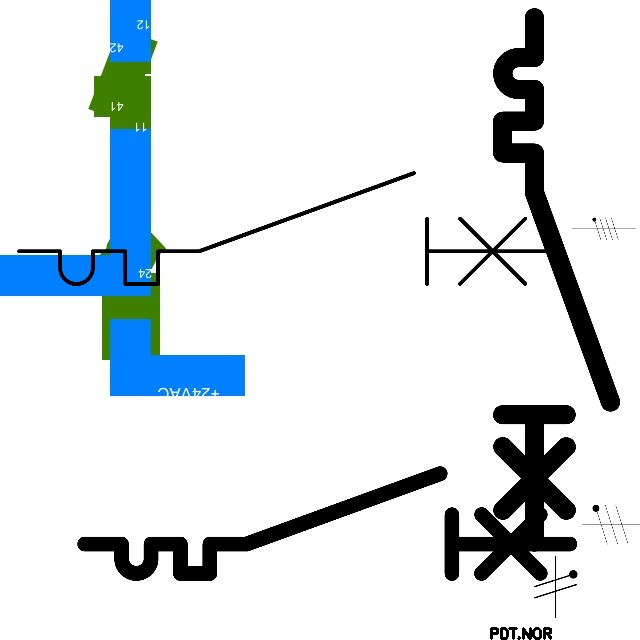interruptor_termomagnetico: (5, 159, 572, 298), (489, 4, 624, 555), (72, 461, 582, 586)
